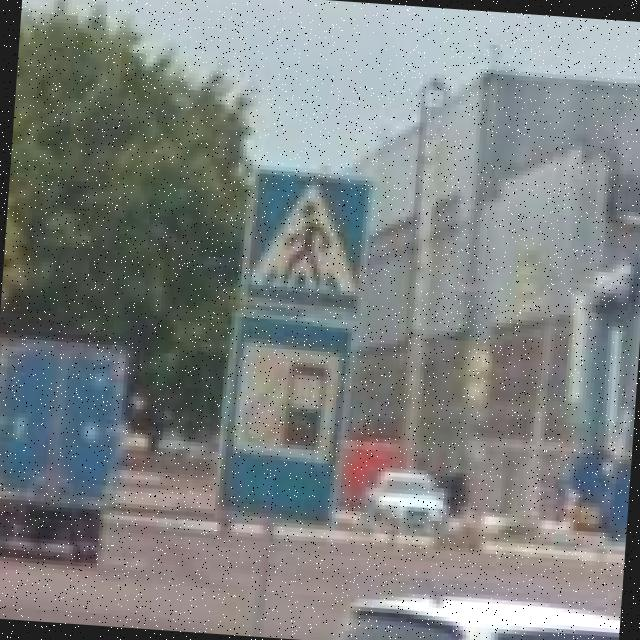Przejscie dla pieszych: (238, 164, 376, 317)
